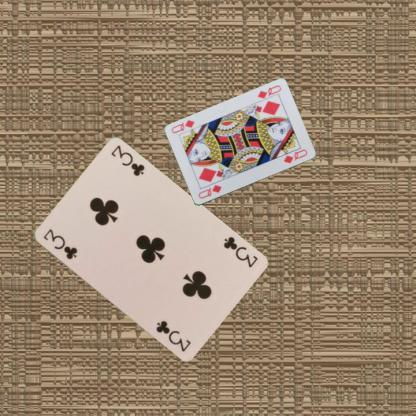3c: (220, 234, 259, 269), (40, 226, 78, 260)
Qd: (255, 83, 282, 104), (196, 182, 223, 200)
